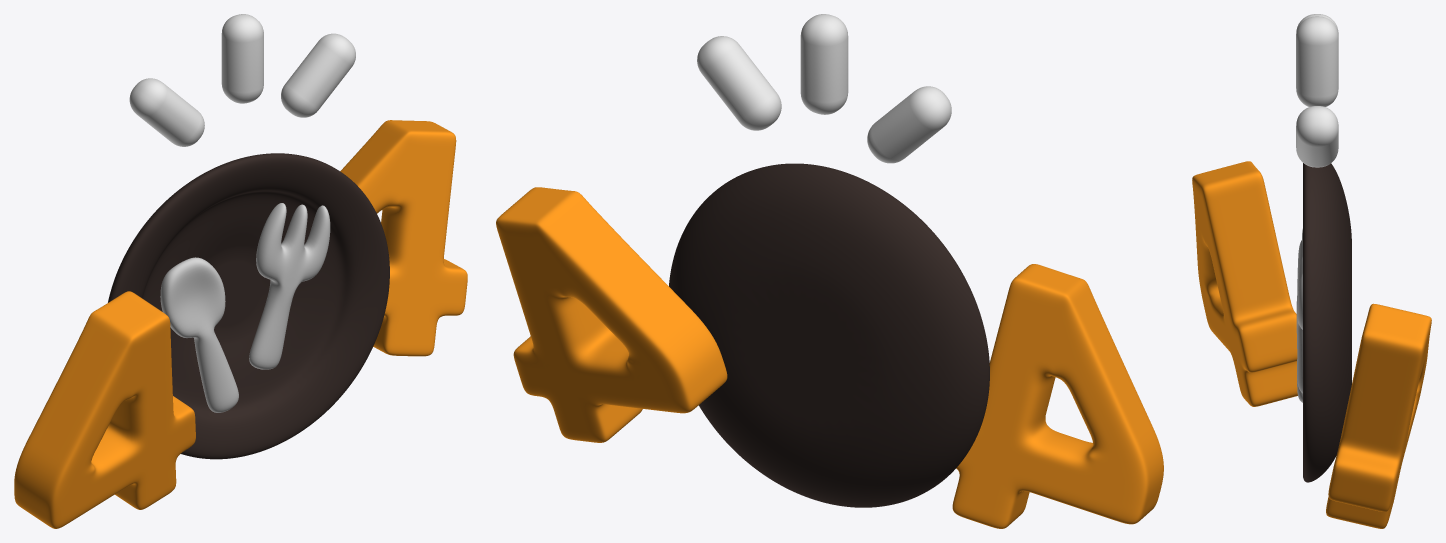
Rendered from 404-food-not-found-animated-3d-icon-1644328663709.glb.
3 views of the same model, side by side, from view 1: azimuth 30°, elevation 25°; view 2: azimuth 150°, elevation 25°; view 3: azimuth 270°, elevation 25° (orthographic). The views are drawn at different scales.
Visible parts, largest first — view 1: Plate, Text 4, Text 4.001, Fork, Spoon, Stripe 3.001, Stripe 2.001, Stripe 1.001; view 2: Plate, Text 4.001, Text 4, Stripe 3.001, Stripe 2.001, Stripe 1.001; view 3: Text 4, Text 4.001, Plate, Stripe 2.001, Stripe 3.001, Fork.
Part boxes in pixels (left/top/right/bottom): Plate: left=108, top=153, right=389, bottom=459; Text 4: left=14, top=291, right=195, bottom=528; Text 4.001: left=340, top=120, right=467, bottom=356; Fork: left=249, top=203, right=330, bottom=369; Spoon: left=160, top=257, right=238, bottom=412; Stripe 3.001: left=281, top=33, right=355, bottom=117; Stripe 2.001: left=221, top=14, right=263, bottom=103; Stripe 1.001: left=129, top=78, right=204, bottom=146; Plate: left=669, top=163, right=989, bottom=507; Text 4.001: left=496, top=187, right=727, bottom=442; Text 4: left=952, top=264, right=1163, bottom=528; Stripe 3.001: left=697, top=36, right=781, bottom=130; Stripe 2.001: left=800, top=14, right=848, bottom=114; Stripe 1.001: left=867, top=86, right=951, bottom=163; Text 4: left=1192, top=161, right=1297, bottom=406; Text 4.001: left=1326, top=303, right=1431, bottom=528; Plate: left=1303, top=163, right=1351, bottom=482; Stripe 2.001: left=1296, top=16, right=1338, bottom=106; Stripe 3.001: left=1296, top=106, right=1338, bottom=167; Fork: left=1296, top=239, right=1302, bottom=393.
Size of the model in its own units: 2.1 by 1.75 by 0.8471.
